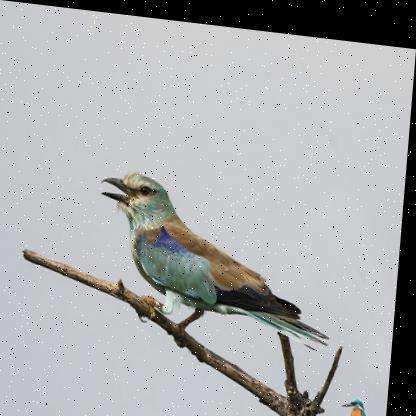Burung: (95, 169, 344, 358)
